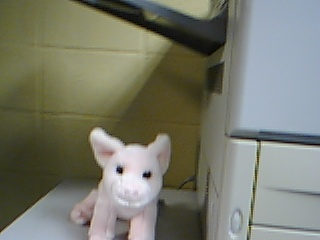piggy: (68, 124, 173, 240)
